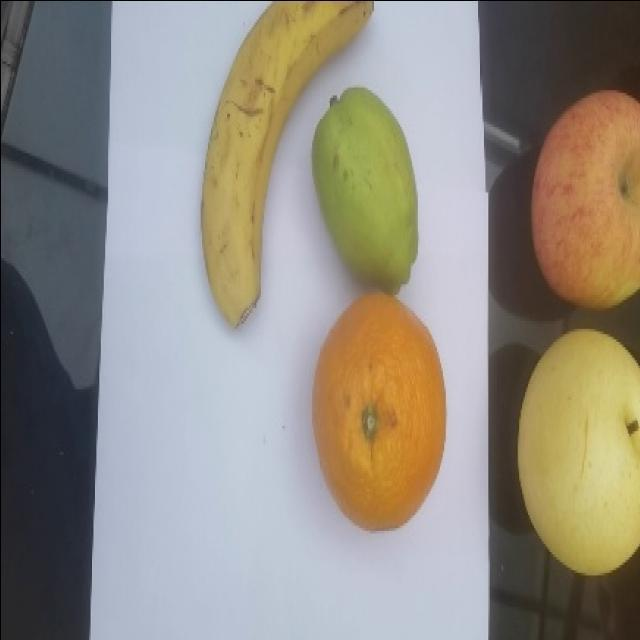Apple: (530, 89, 639, 310)
Banana: (200, 0, 374, 328)
Orange: (311, 291, 446, 532)
